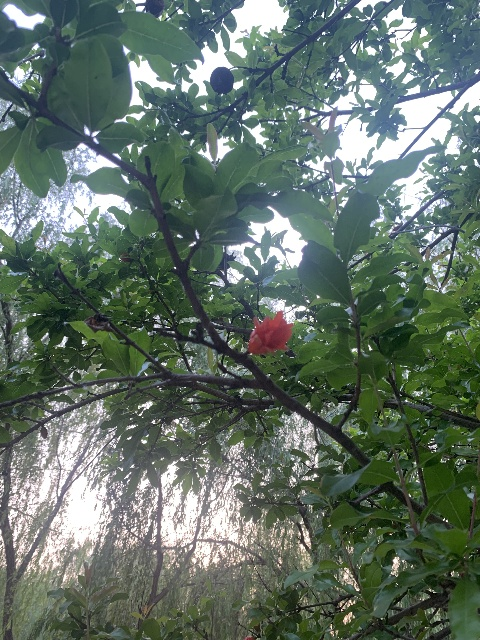flower: (247, 310, 293, 355)
